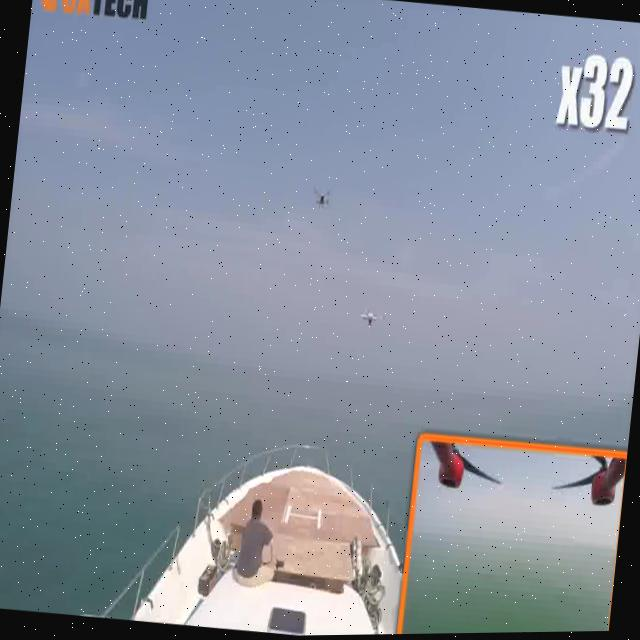drone: (306, 169, 334, 224), (354, 294, 385, 336)
